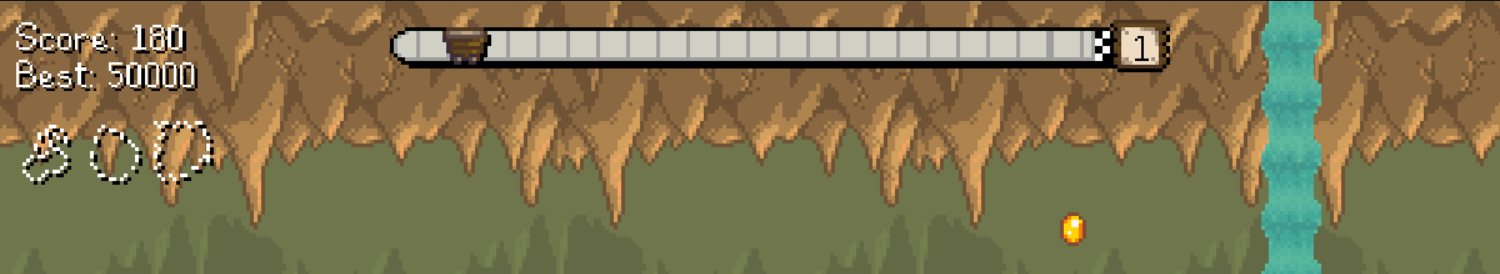score: (128, 20, 189, 54)
